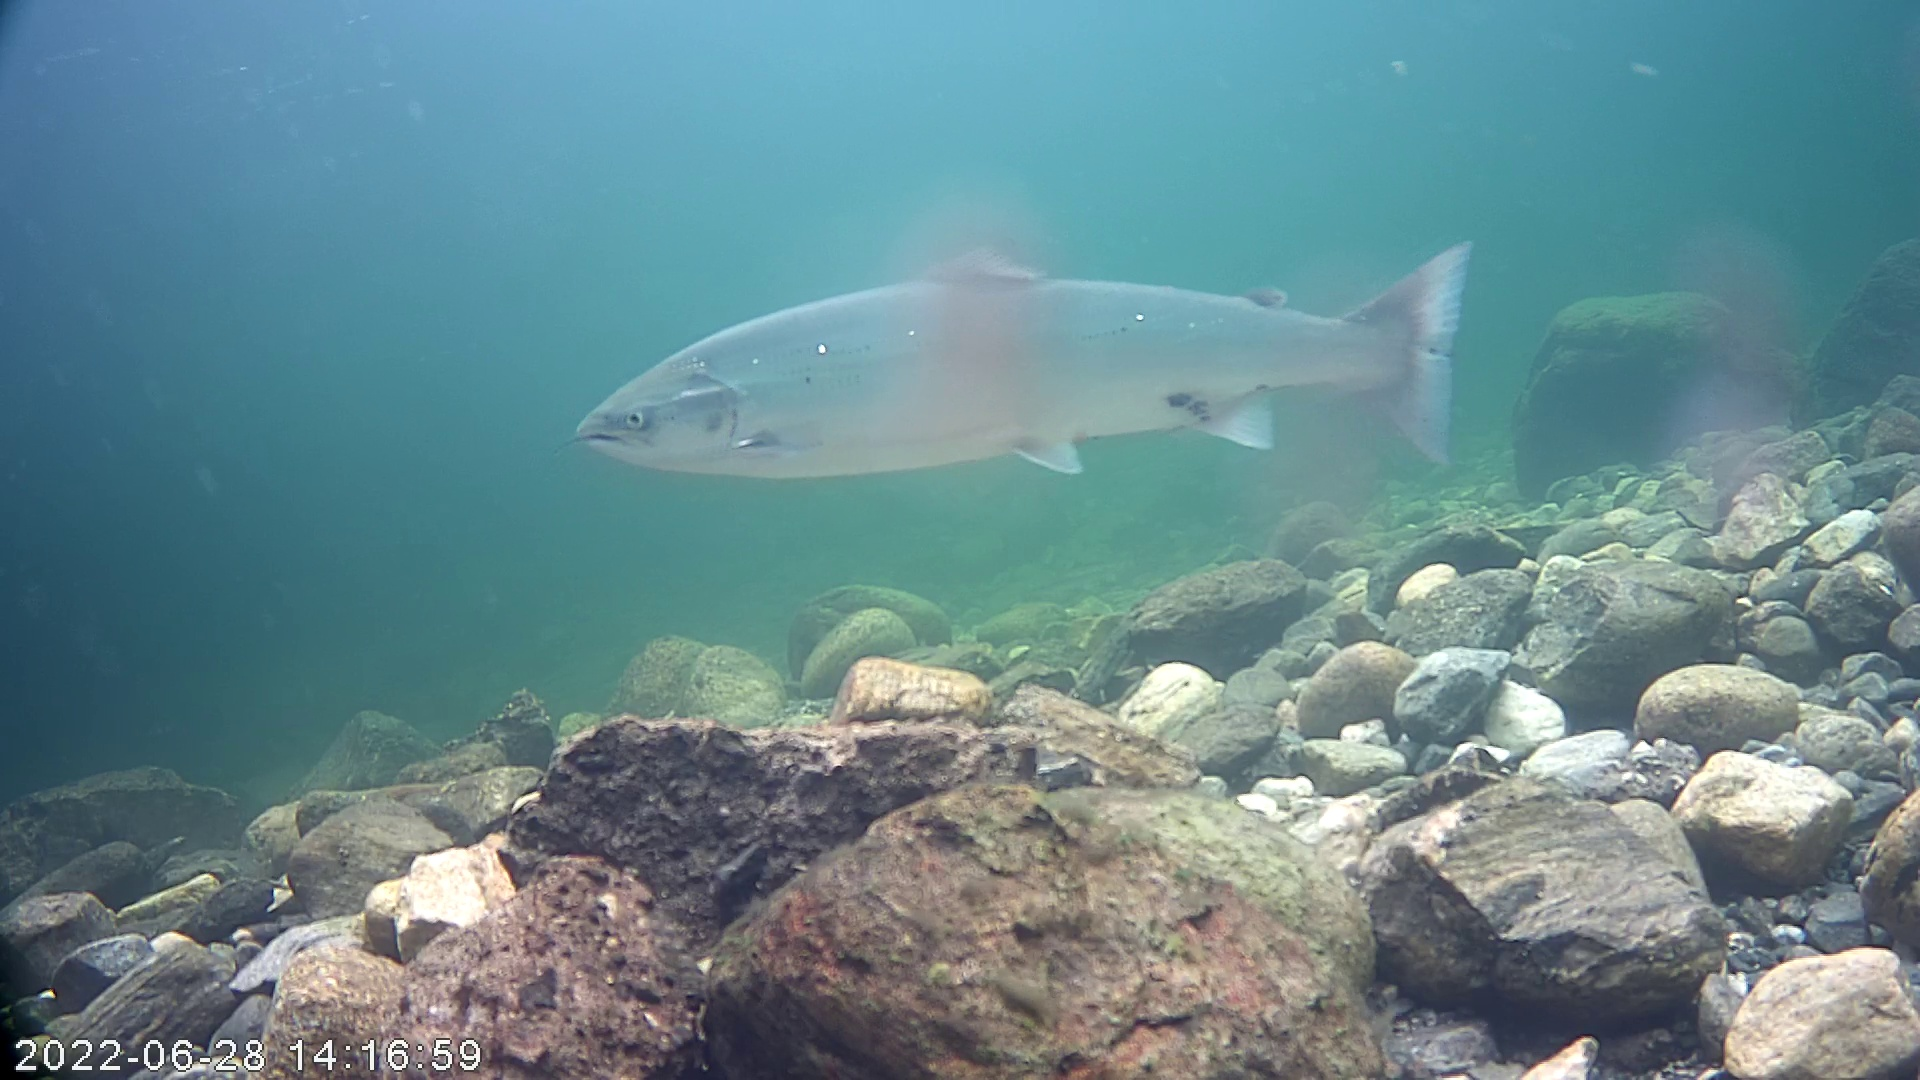salmon: (563, 148, 1480, 564)
